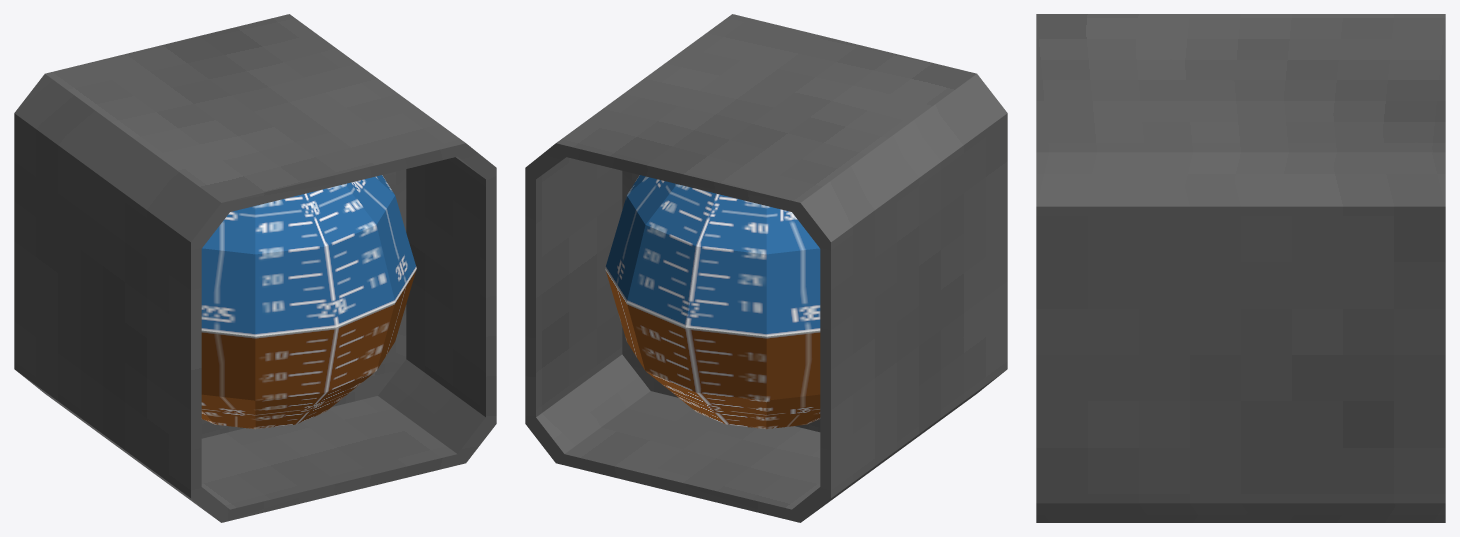
The model's file is navball.obj.
3 views of the same model, side by side, from view 1: azimuth 30°, elevation 25°; view 2: azimuth 150°, elevation 25°; view 3: azimuth 270°, elevation 25° (orthographic). The views are drawn at different scales.
Parts seen in each view (by area): view 1: case, nav; view 2: case, nav; view 3: case.
Boxes of the visible parts, x1=… form: case: x1=14, y1=14, x2=496, y2=522; nav: x1=201, y1=175, x2=416, y2=429; case: x1=525, y1=14, x2=1007, y2=522; nav: x1=605, y1=175, x2=820, y2=429; case: x1=1036, y1=14, x2=1445, y2=522.
Size of the model in its own units: 2.19 by 2.19 by 2.19.
Materials: 2 (2 with a texture image).
